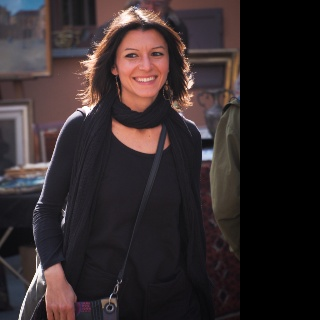without_mask: (115, 29, 169, 97)
